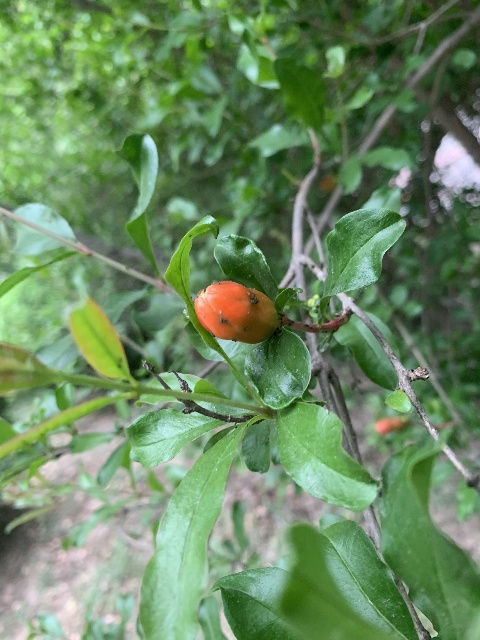bud: (193, 281, 279, 343), (374, 417, 403, 433)
